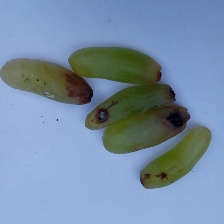grapes: (11, 8, 185, 177)
